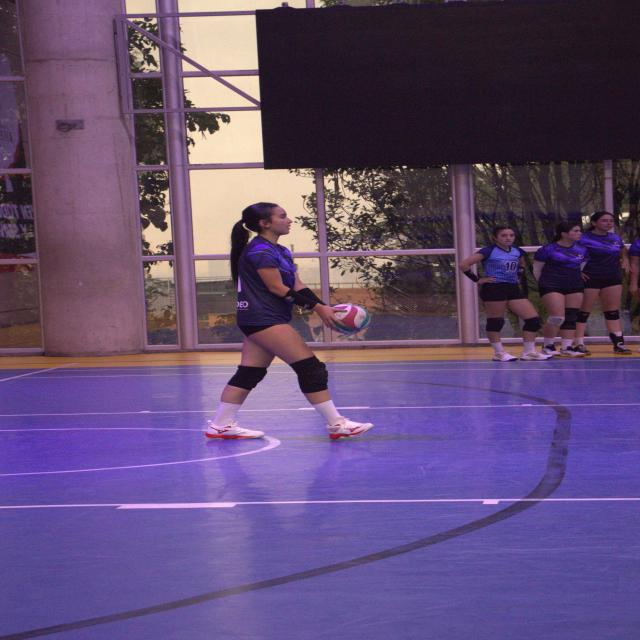volleyball: (329, 303, 372, 334)
